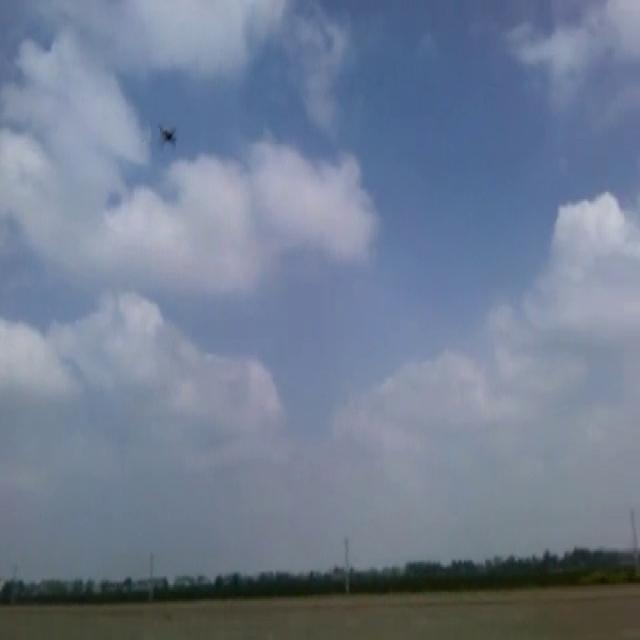drone: (154, 121, 178, 149)
